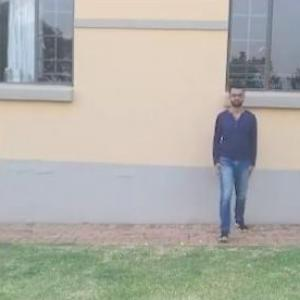follow: (213, 79, 260, 237)
